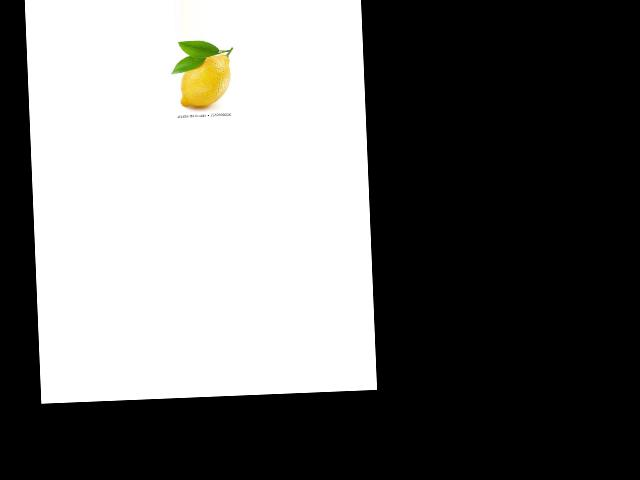lemon: (173, 46, 234, 109)
